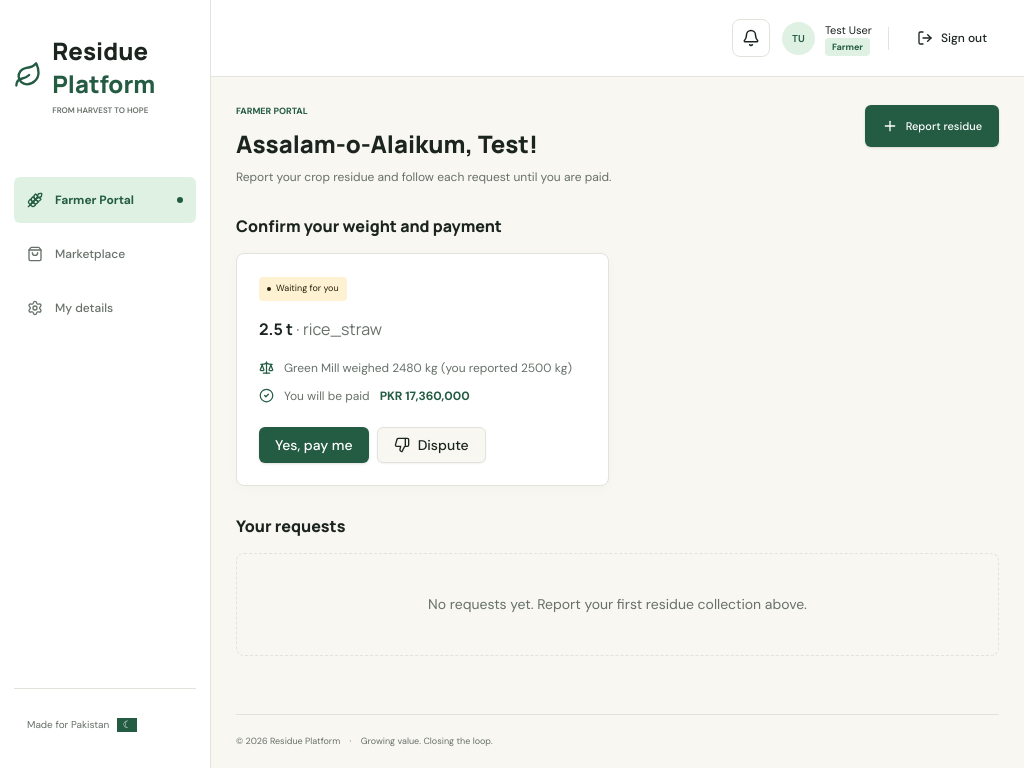
Scenario: farmer: confirm the weight and payment › a refusal from the API is shown
The width and height of the screenshot is (1024, 768).
What coordinates should you click on to do the following:
click the button "Yes, pay me"
I would click on:
 (314, 445)
Its box is [259,427,369,463].
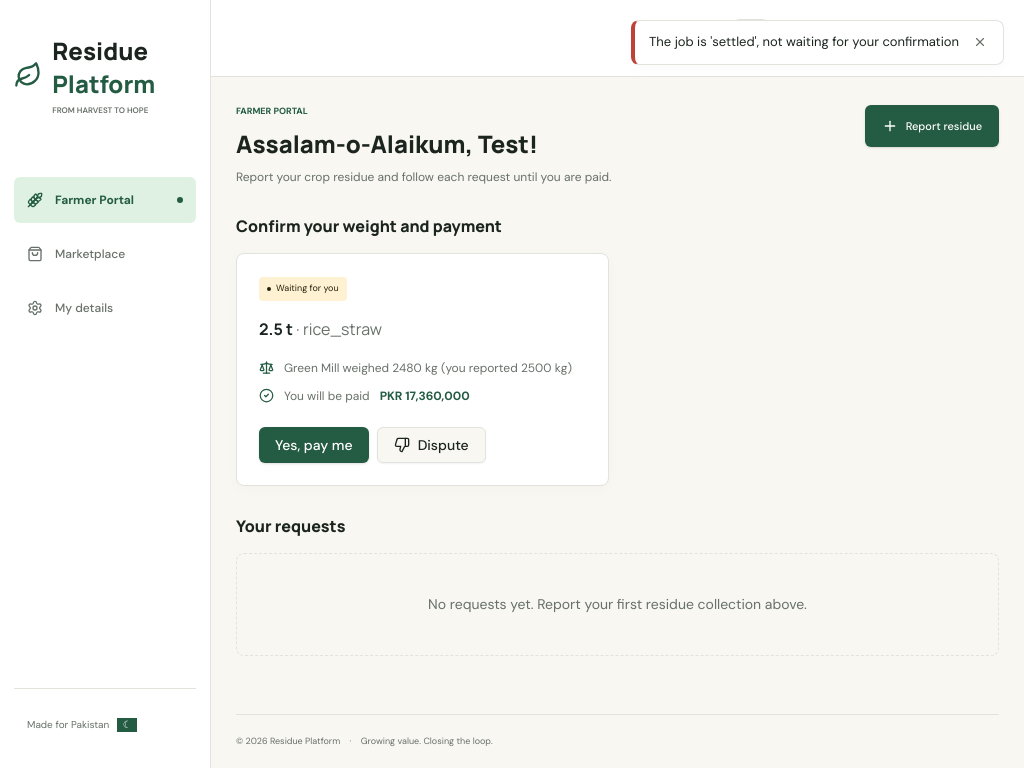
Now the message shows "not waiting for your confirmation", box [649,33,959,50]
